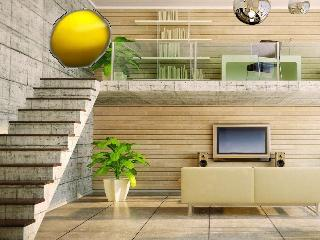lemon: (51, 12, 109, 68)
